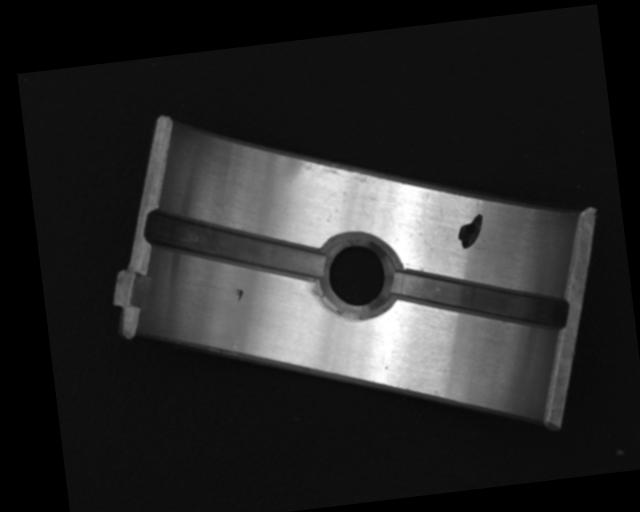blot: (455, 213, 487, 250)
bruise: (235, 287, 244, 302)
gap: (147, 193, 326, 299), (391, 253, 573, 349)
hole: (316, 231, 401, 323)
